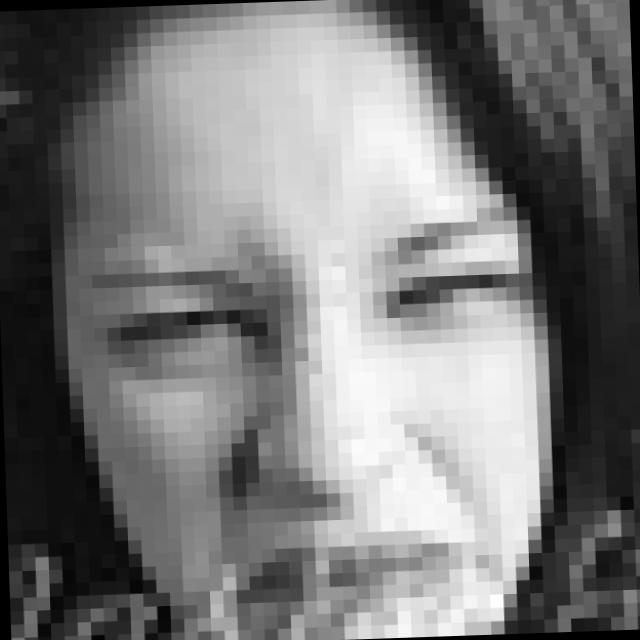disgust: (91, 204, 546, 629)
